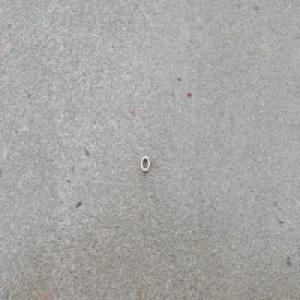Nut: (140, 155, 150, 172)
